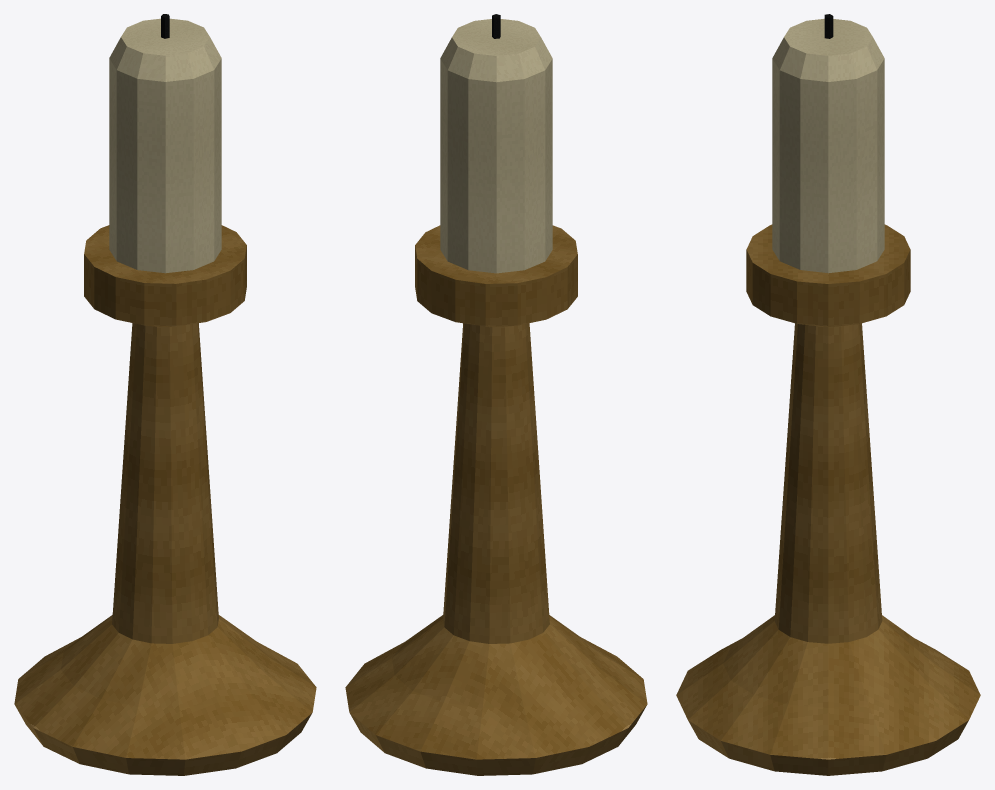
File: level_loose_candlestick.glb
The picture shows the model from 3 angles, left to right: view 1: azimuth 30°, elevation 25°; view 2: azimuth 150°, elevation 25°; view 3: azimuth 270°, elevation 25°; orthographic projection.
Parts seen in each view (by area): view 1: level_loose_candlestick; view 2: level_loose_candlestick; view 3: level_loose_candlestick.
Part boxes in pixels (x1,y1,x2,y2): level_loose_candlestick: (14, 14, 316, 775); level_loose_candlestick: (345, 14, 647, 775); level_loose_candlestick: (676, 14, 980, 775).
Size of the model in its own units: 0.13 by 0.33 by 0.13.
Materials: 3 (3 with a texture image).
